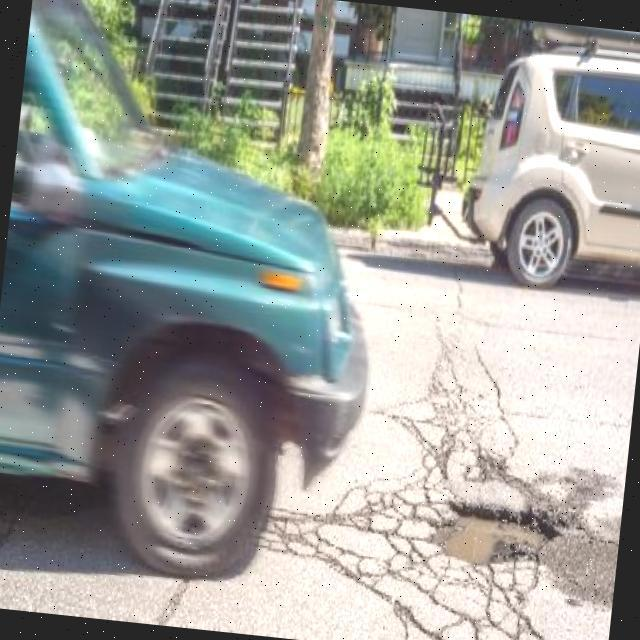Pothole: (436, 506, 560, 565)
